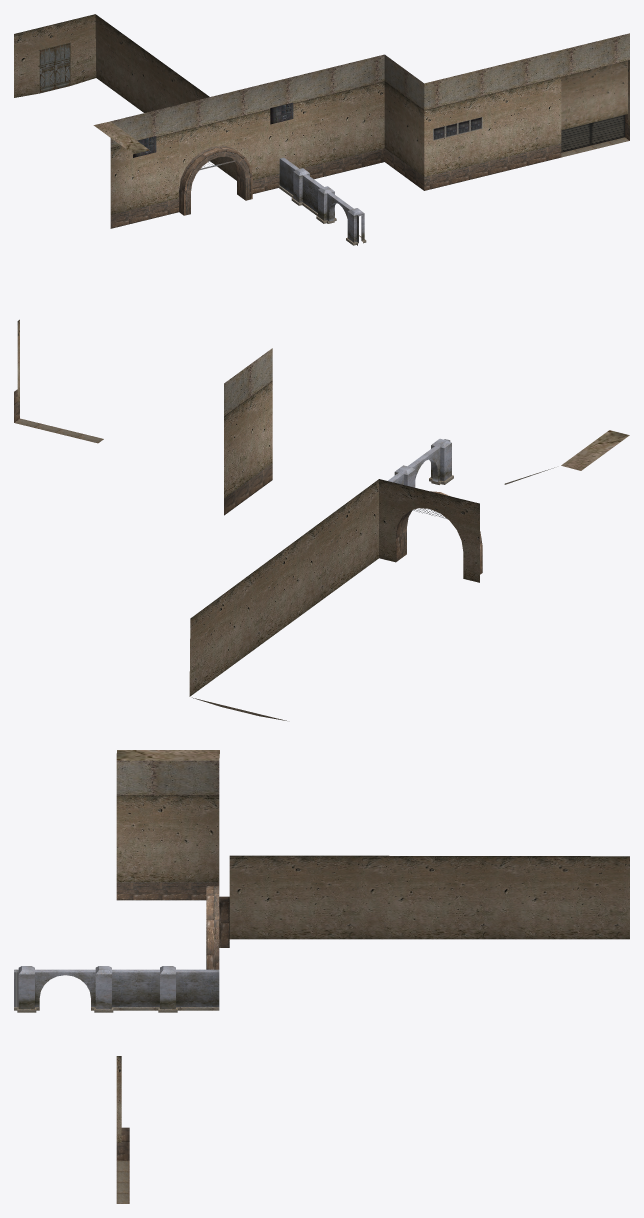
File: M11Z1_TownWall03_A.glb
The picture shows the model from 3 angles, top to bottom: view 1: azimuth 30°, elevation 25°; view 2: azimuth 150°, elevation 25°; view 3: azimuth 270°, elevation 25°; orthographic projection. The views are drawn at different scales.
Visible parts, largest first — view 1: M11Z1_TOWNWALL03_A; view 2: M11Z1_TOWNWALL03_A; view 3: M11Z1_TOWNWALL03_A.
Part boxes in pixels (bbox=[...]): M11Z1_TOWNWALL03_A: bbox=[14, 14, 629, 245]; M11Z1_TOWNWALL03_A: bbox=[14, 319, 629, 720]; M11Z1_TOWNWALL03_A: bbox=[14, 750, 629, 1203].
Bounding box in the file's own units: 57.98 × 12.2 × 48.
9 materials, 9 textured.
